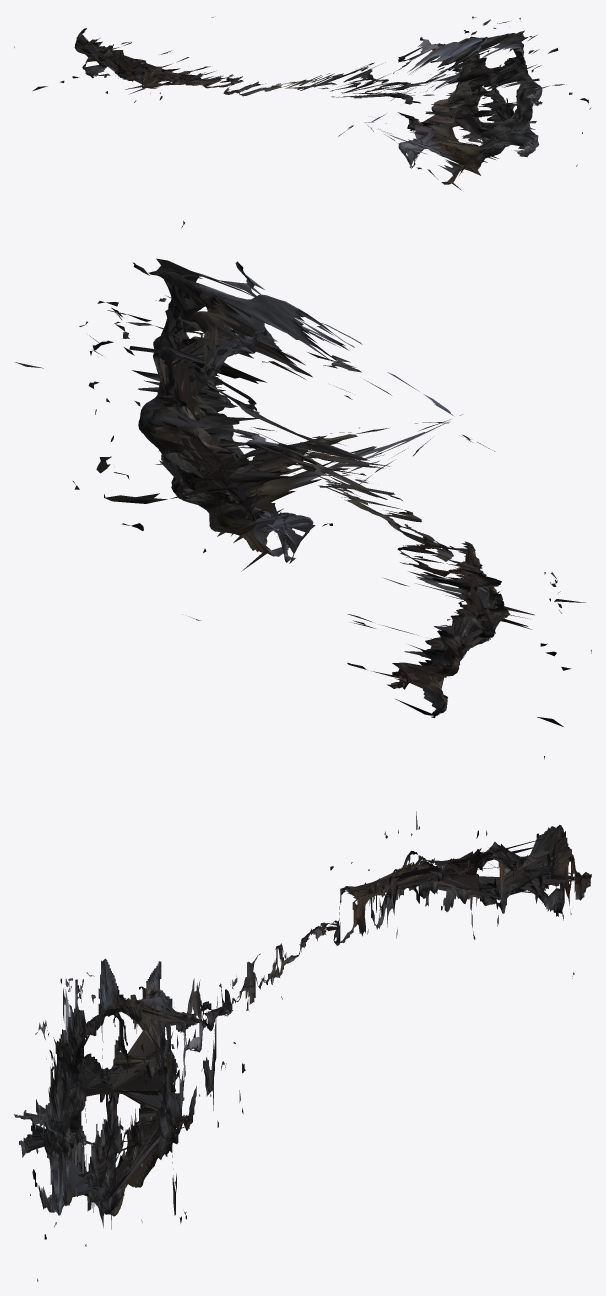
File: mesh_inpaint.glb
3 renders of one model, top to bottom at view 1: azimuth 30°, elevation 25°; view 2: azimuth 150°, elevation 25°; view 3: azimuth 270°, elevation 25°, orthographic. The views are drawn at different scales.
Visible parts, largest first — view 1: ipn, fill; view 2: ipn, fill; view 3: ipn, fill.
Boxes of the visible parts, left/top/right/bottom form: ipn: left=14, top=16, right=591, bottom=190; fill: left=76, top=34, right=540, bottom=182; ipn: left=15, top=221, right=591, bottom=726; fill: left=153, top=270, right=506, bottom=689; ipn: left=14, top=756, right=591, bottom=1281; fill: left=17, top=826, right=590, bottom=1215.
Bounding box in the file's own units: 1.98 × 0.7683 × 1.38.
Materials: 2 (1 with a texture image).
